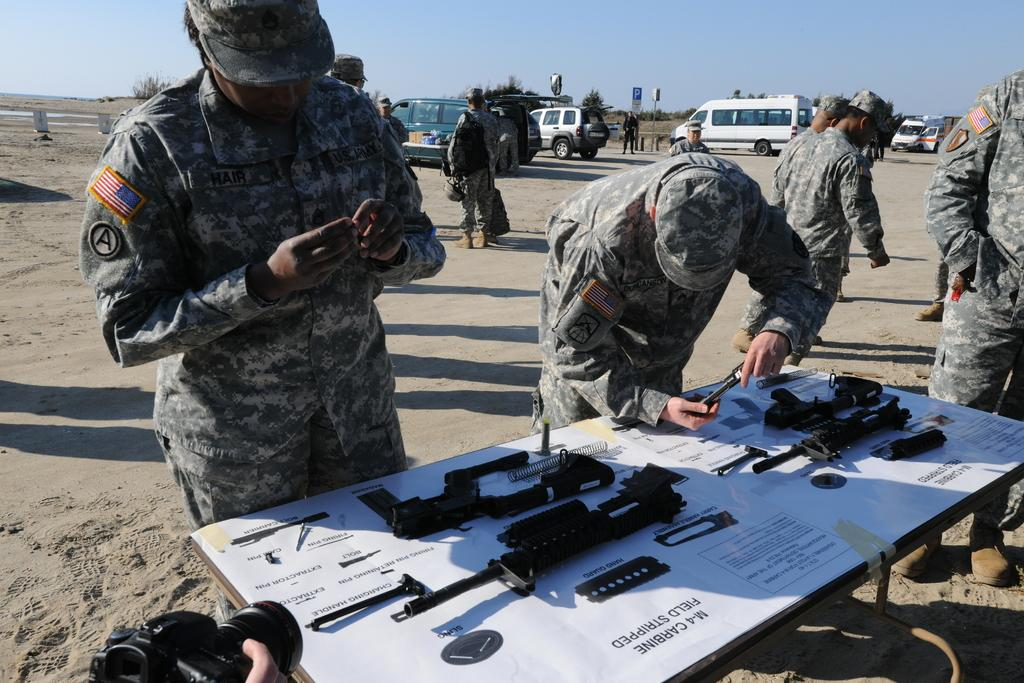Rifle: (397, 464, 691, 614), (745, 385, 920, 470)
